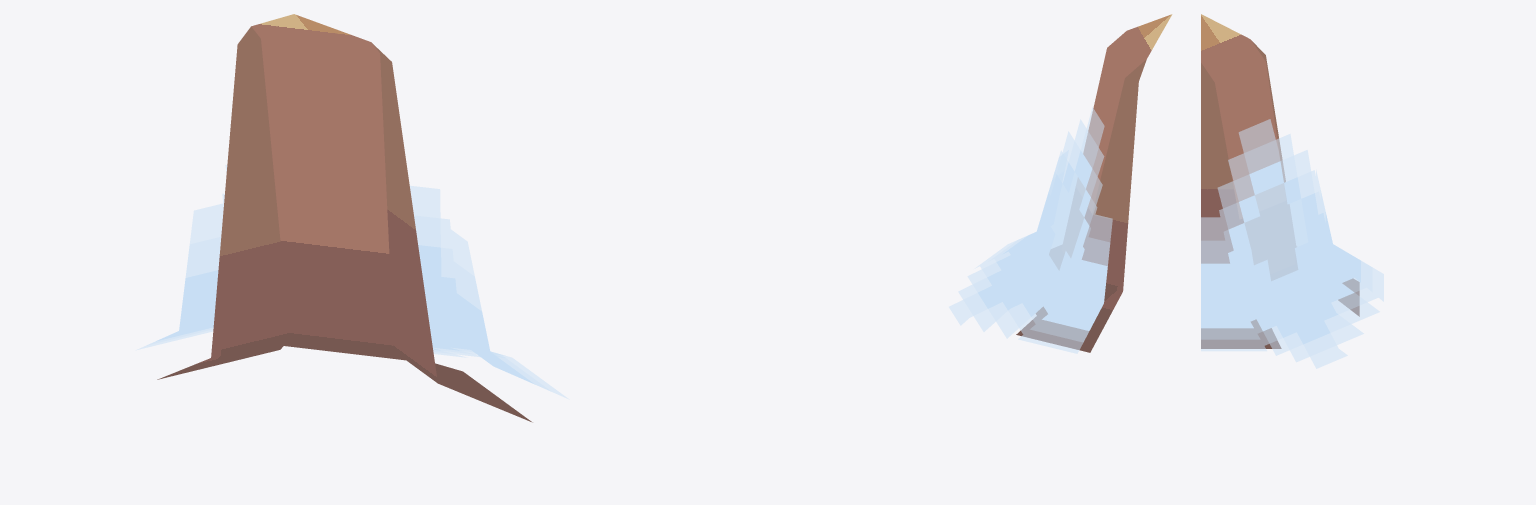
The picture shows the model from 3 angles, left to right: view 1: azimuth 30°, elevation 25°; view 2: azimuth 150°, elevation 25°; view 3: azimuth 270°, elevation 25°; orthographic projection. The views are drawn at different scales.
Size of the model in its own units: 0.5459 by 0.6409 by 0.5459.
2 materials, 2 textured.
